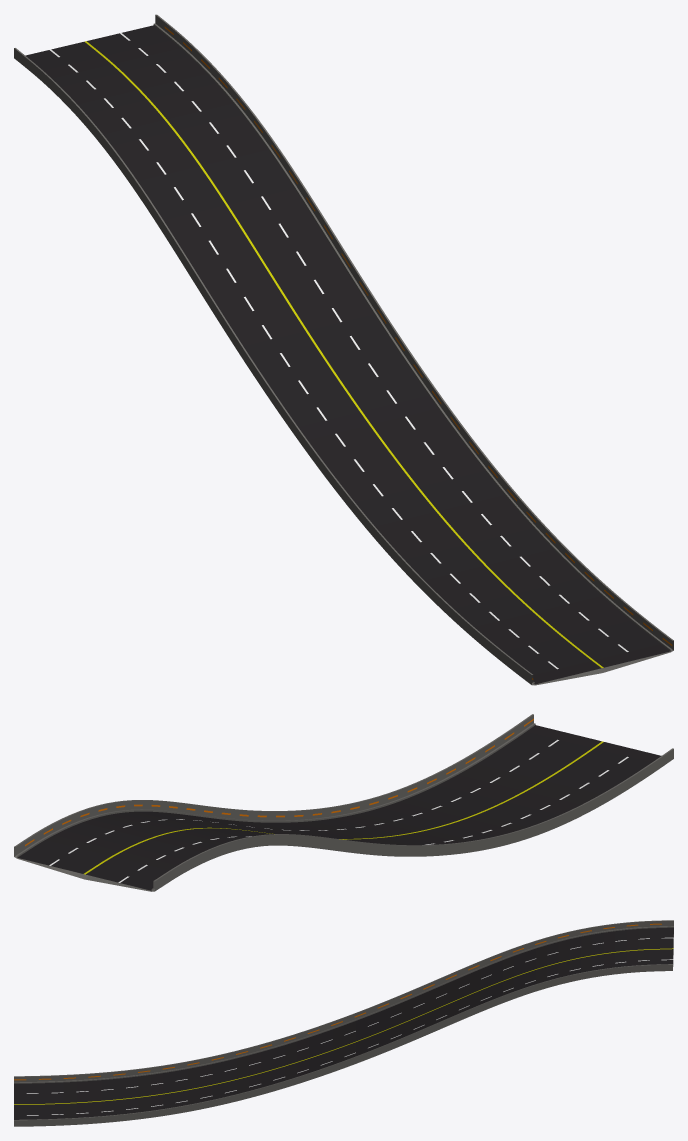
The model's file is StreetSoftRamp.fbx.
3 renders of one model, top to bottom at view 1: azimuth 30°, elevation 25°; view 2: azimuth 150°, elevation 25°; view 3: azimuth 270°, elevation 25°, orthographic. The views are drawn at different scales.
Visible parts, largest first — view 1: Street, Barrier; view 2: Street, Barrier; view 3: Street, Barrier.
Part boxes in pixels (<box>): Street: <box>25,25,670,684</box>; Barrier: <box>14,14,673,685</box>; Street: <box>17,725,661,890</box>; Barrier: <box>14,714,673,891</box>; Street: <box>14,927,673,1119</box>; Barrier: <box>14,920,673,1126</box>.
Size of the model in its own units: 7224 by 12582 by 45241.
